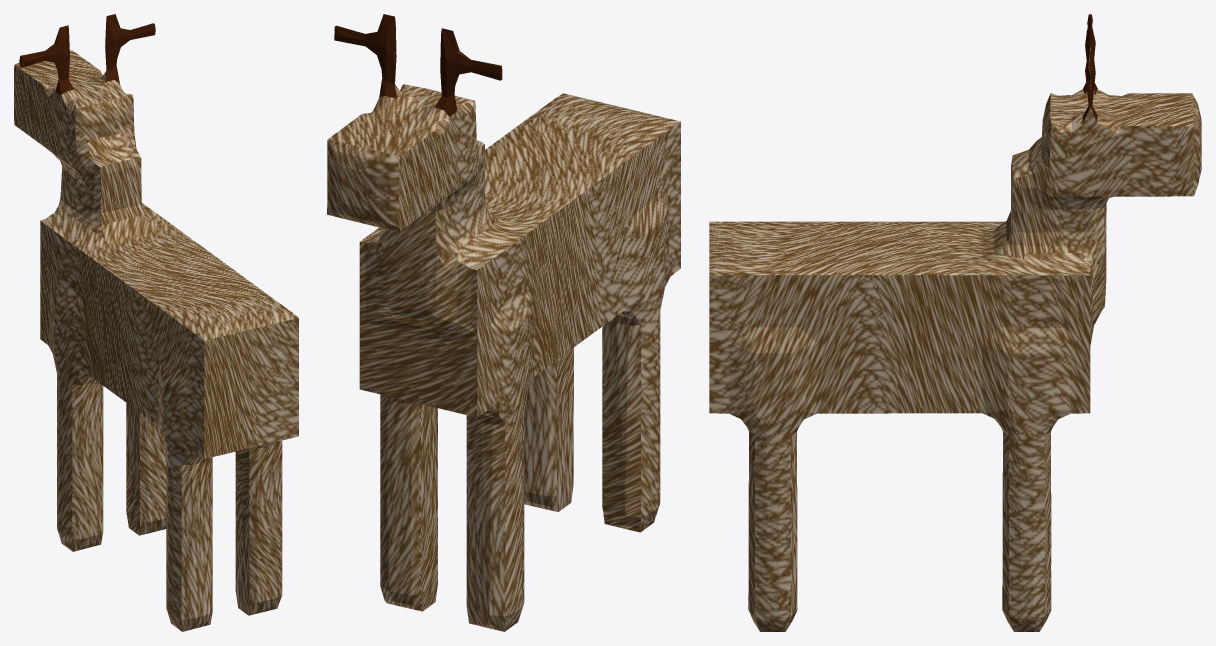
File: reno.fbx
3 views of the same model, side by side, from view 1: azimuth 30°, elevation 25°; view 2: azimuth 150°, elevation 25°; view 3: azimuth 270°, elevation 25° (orthographic). The views are drawn at different scales.
Parts seen in each view (by area): view 1: Reno; view 2: Reno; view 3: Reno.
Boxes of the visible parts, <box> form: Reno: <box>14,14,298,631</box>; Reno: <box>327,14,680,631</box>; Reno: <box>709,14,1201,631</box>.
Bounding box in the file's own units: 113 × 400 × 310.
Materials: 1 (1 with a texture image).
